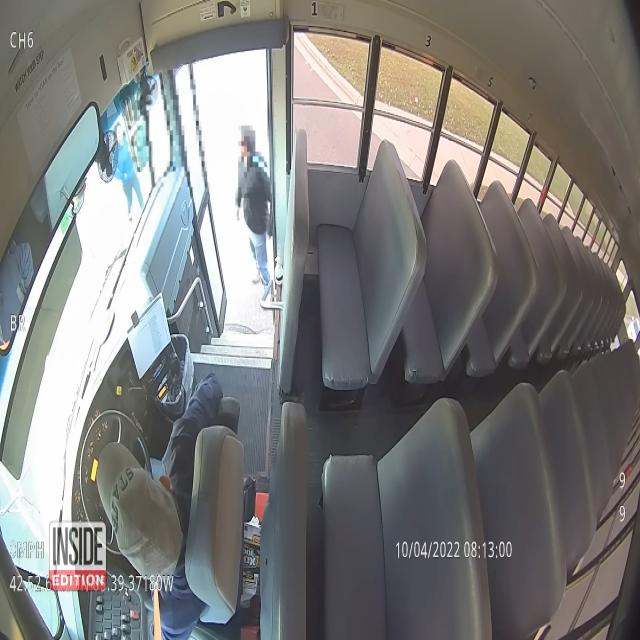bus-door: (172, 64, 226, 333)
